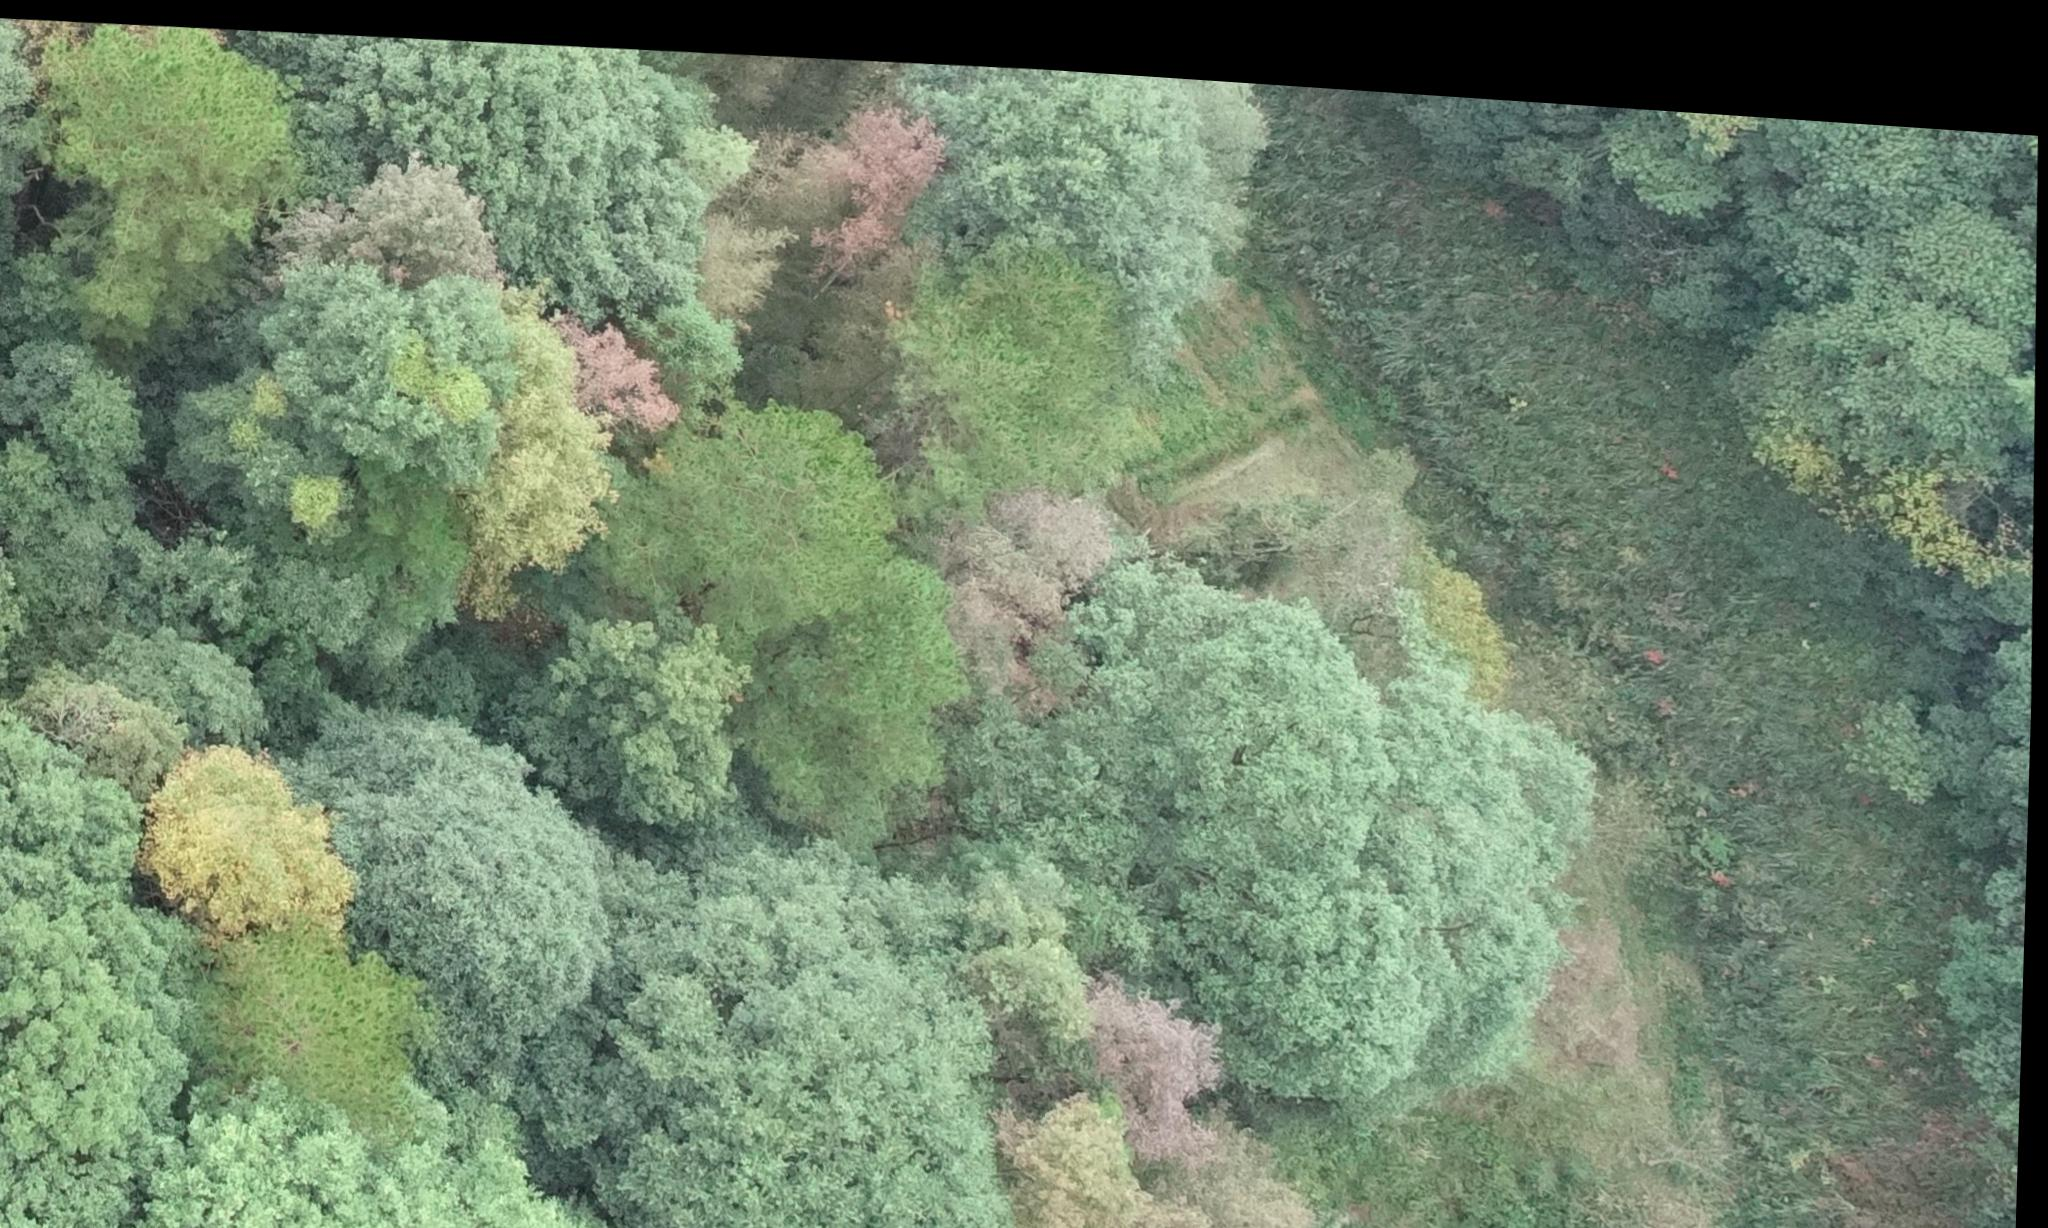heavy: (738, 73, 987, 268)
